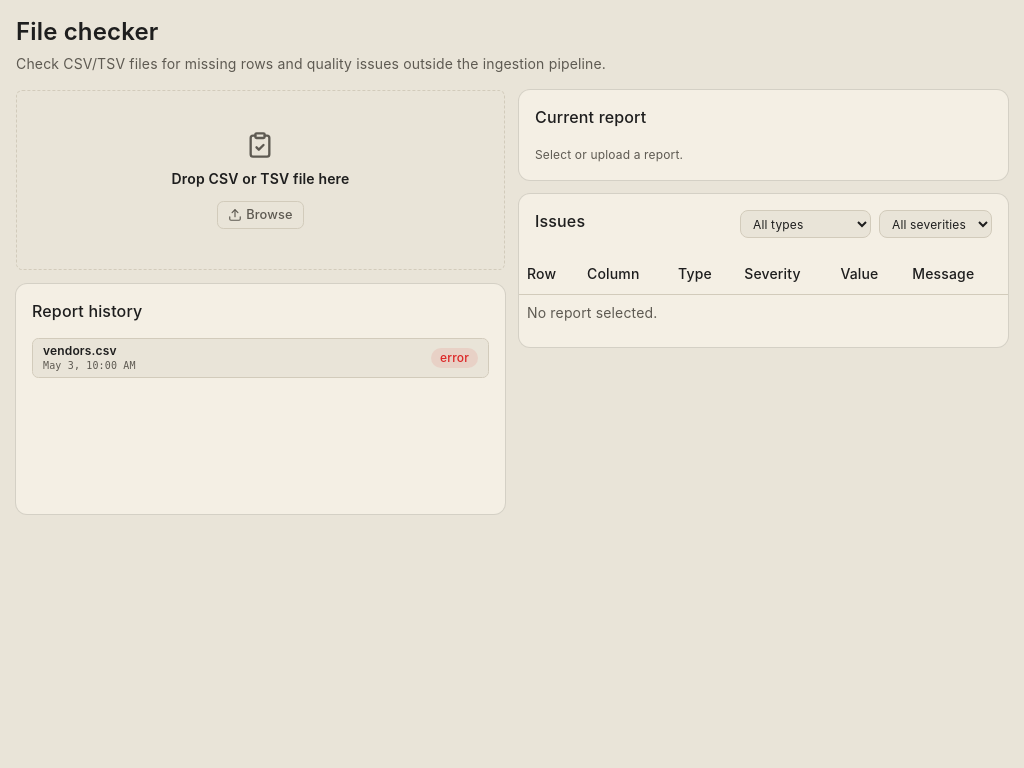
Scenario: FileChecker page › shows the backend error message for an errored report detail
The width and height of the screenshot is (1024, 768).
Step 1. Click the button "vendors.csv May 3, 10:00 AM error" → click(80, 350), box [32, 338, 489, 378]
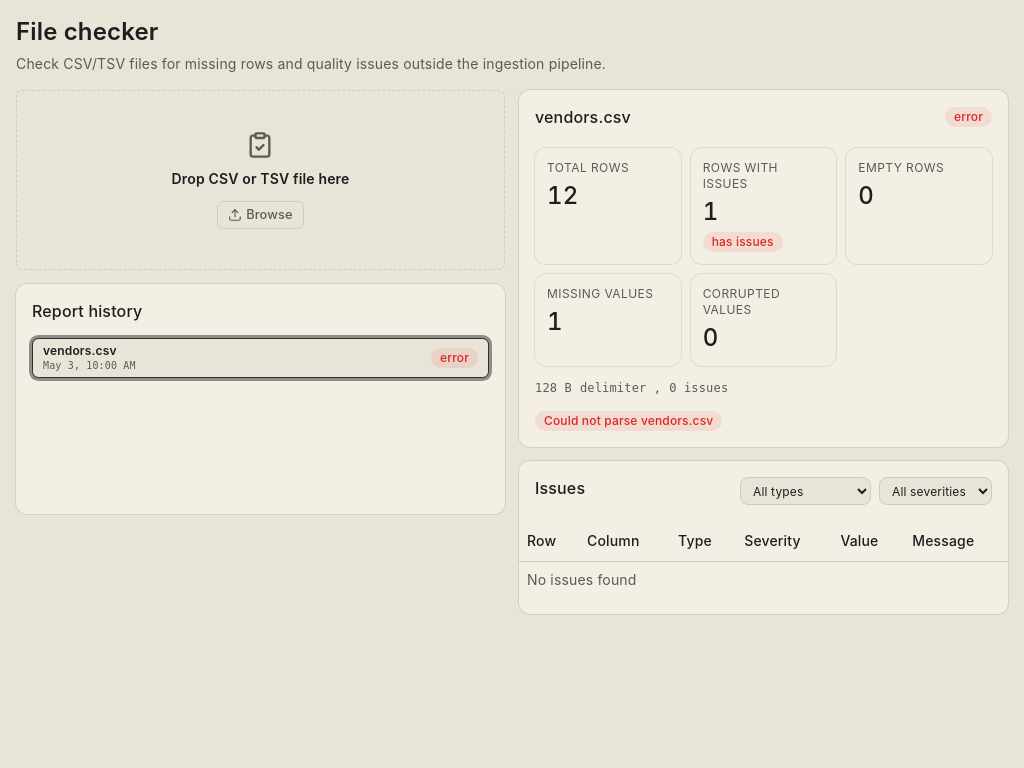
expect the message reads "Could not parse vendors.csv": met, box [544, 413, 713, 428]
